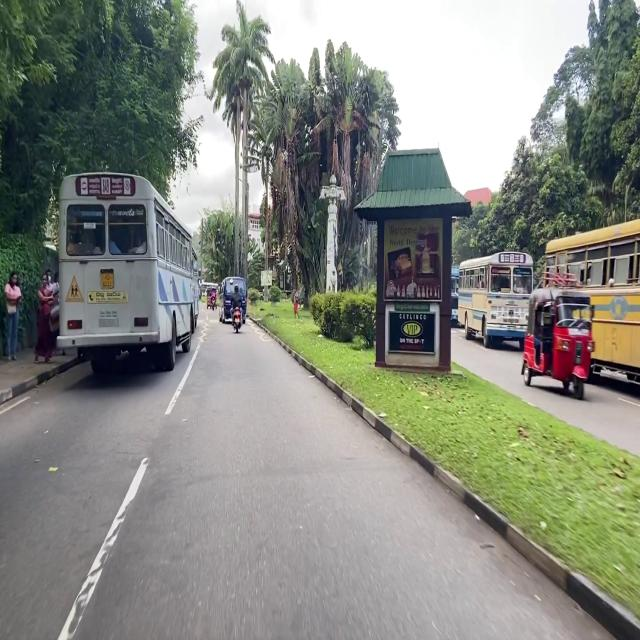bus: (57, 172, 197, 373), (544, 219, 640, 382), (458, 252, 532, 349), (451, 267, 459, 327)
motorcycle: (234, 307, 241, 332), (211, 298, 215, 310)
person: (35, 274, 53, 362), (5, 270, 21, 360), (50, 272, 60, 347), (231, 285, 242, 322), (45, 246, 51, 285), (293, 290, 300, 318), (211, 287, 216, 302)
three wheeler: (522, 287, 594, 399), (207, 287, 211, 309)
van: (220, 277, 247, 322)
